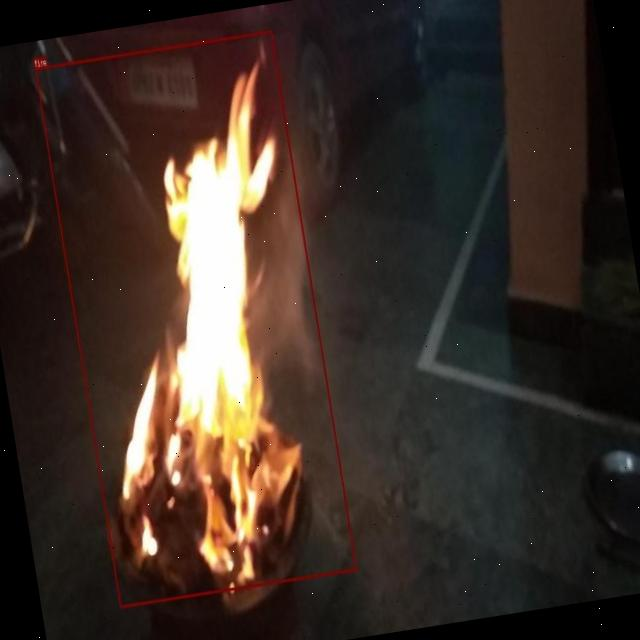fire: (35, 30, 357, 607)
